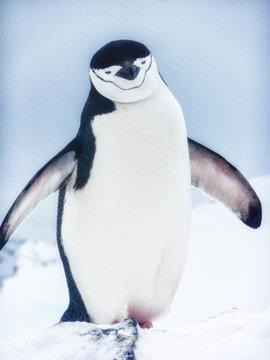chinstrap: (0, 35, 256, 349)
